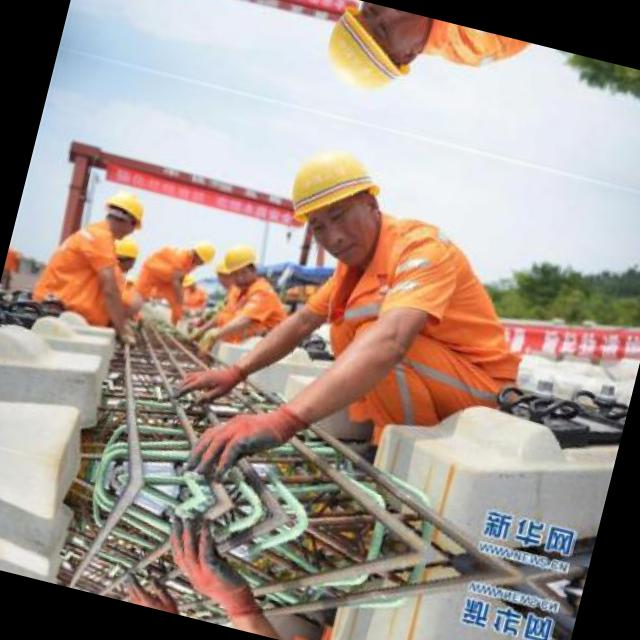helmet: (260, 126, 407, 276), (300, 0, 442, 116), (94, 184, 150, 246), (212, 235, 262, 291), (107, 227, 143, 276), (182, 237, 218, 270), (177, 268, 201, 291)
